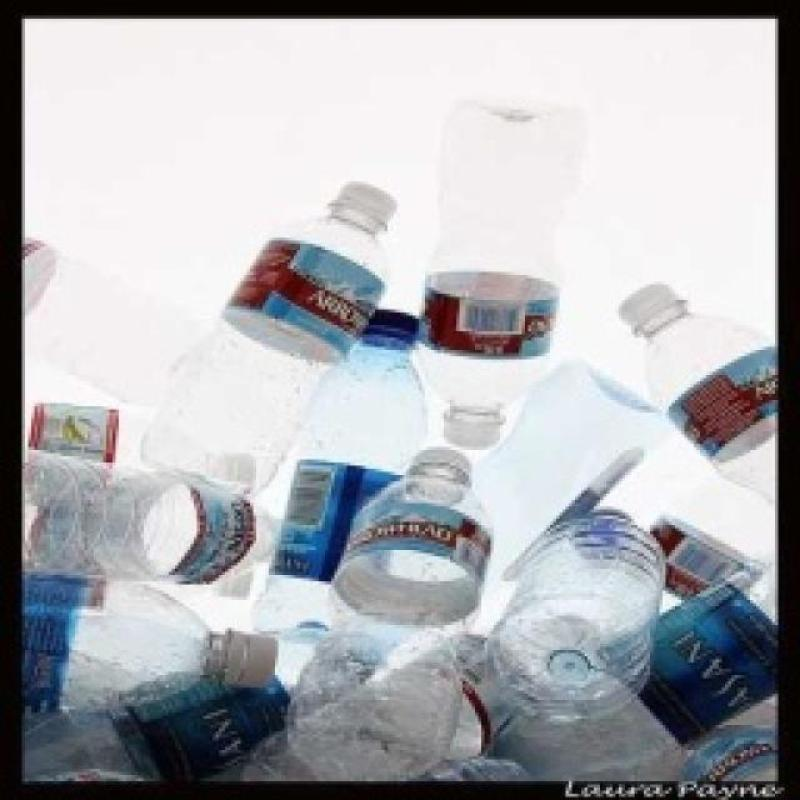botella: (142, 184, 398, 490), (289, 450, 489, 781), (420, 97, 592, 451), (253, 308, 425, 644), (461, 367, 658, 602), (26, 630, 318, 780), (23, 446, 289, 594), (620, 282, 780, 512), (494, 509, 666, 719), (25, 568, 275, 710), (606, 544, 779, 744), (492, 664, 686, 780), (23, 397, 254, 491), (644, 448, 778, 602), (686, 714, 780, 776), (19, 226, 56, 318)
